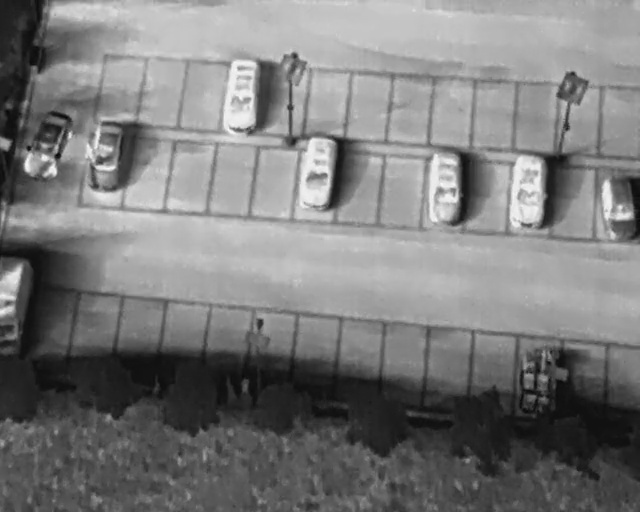Car: (16, 103, 80, 187), (79, 116, 132, 195), (219, 54, 267, 137), (294, 131, 343, 211), (506, 151, 552, 234), (594, 168, 640, 245), (431, 151, 465, 227)
OtherVehicle: (1, 253, 34, 350)
